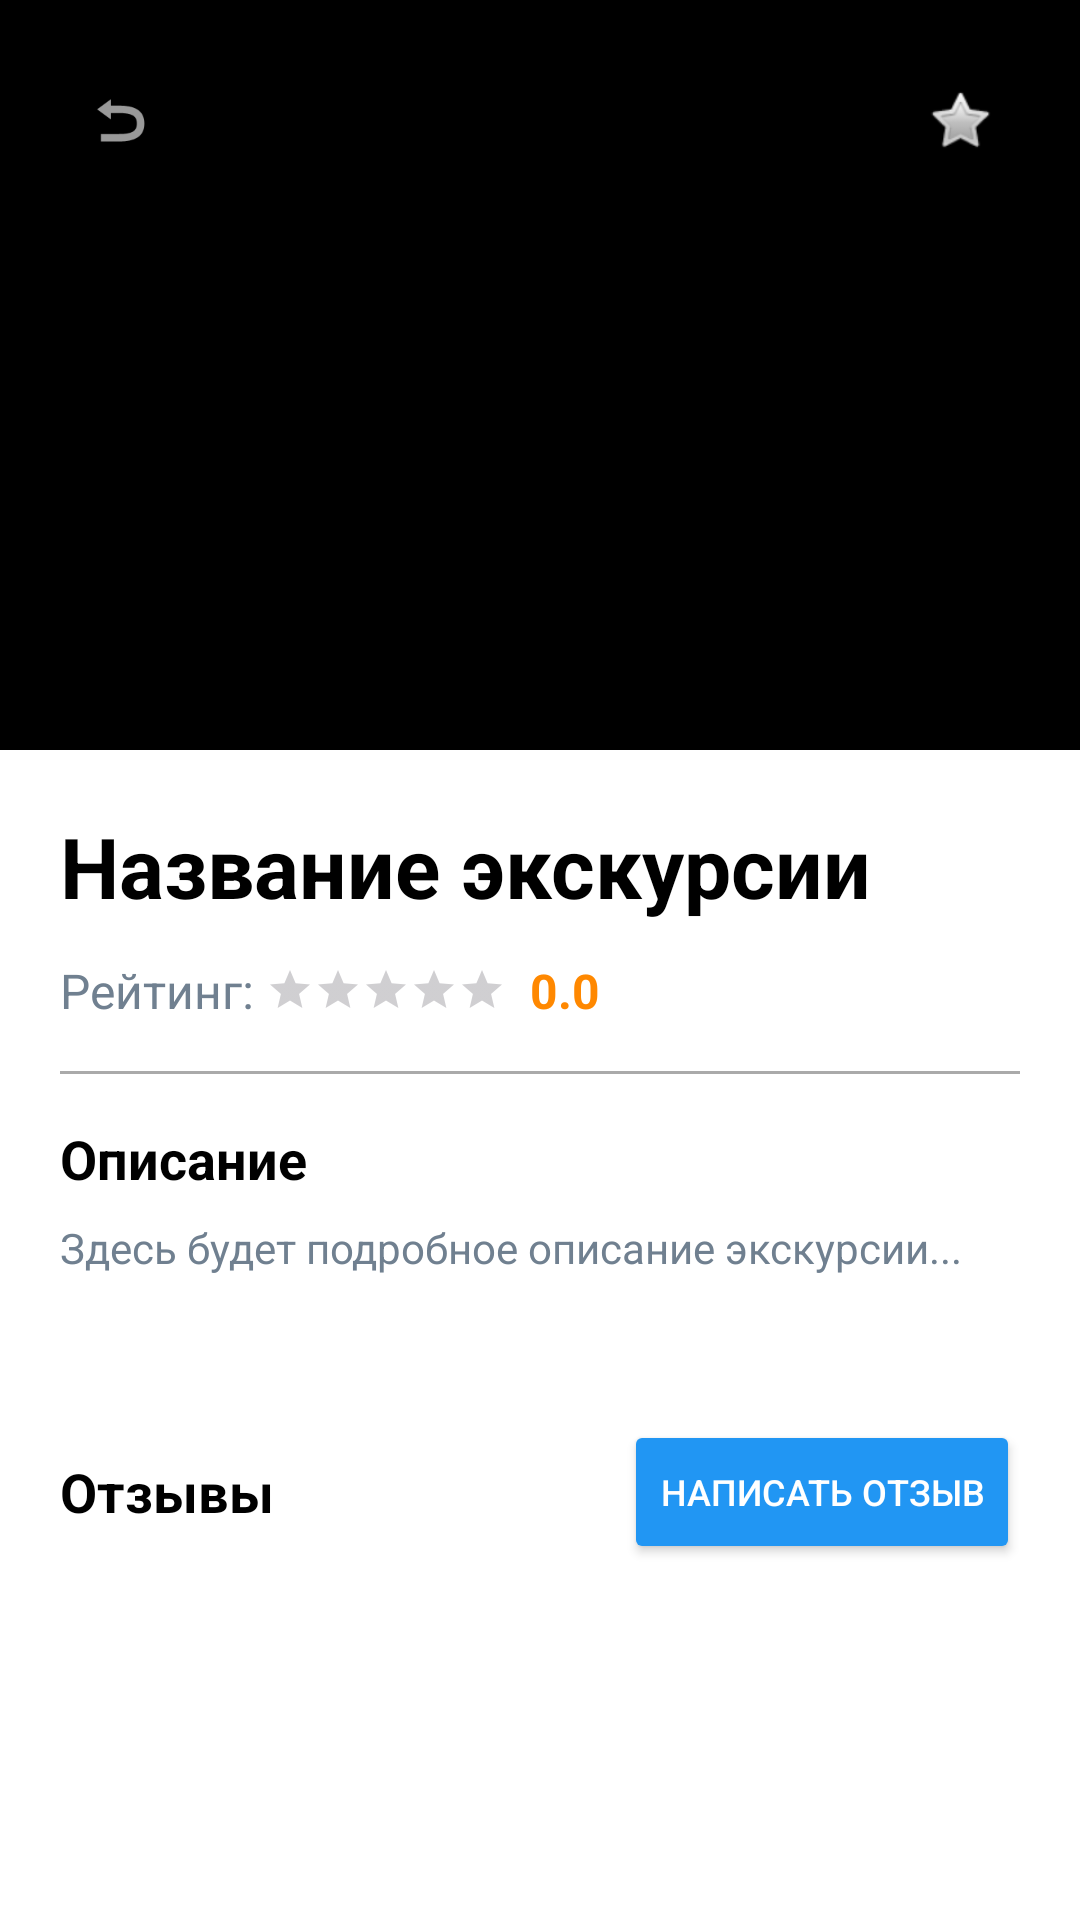

Where to tap for icons on this 1080px x 1920px app screen, as point (x, y):
В избранное: point (961, 119)
Назад: point (121, 120)
